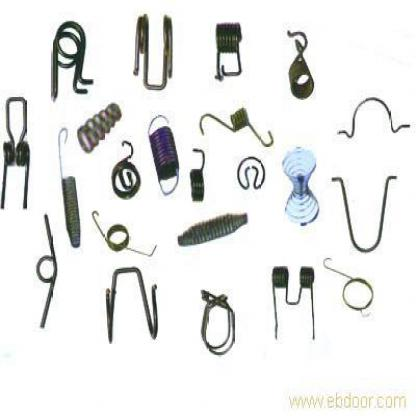FOD: (268, 262, 318, 343), (198, 104, 274, 151), (89, 207, 157, 258), (145, 114, 182, 198), (174, 210, 249, 249), (74, 102, 126, 157), (214, 17, 245, 84), (111, 140, 143, 200), (186, 145, 208, 202)
